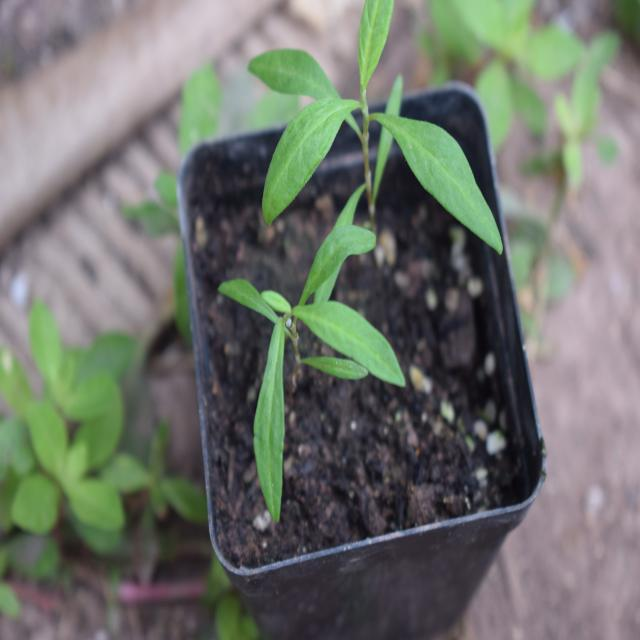white_smart_weed: (246, 0, 520, 295), (193, 192, 431, 482)
